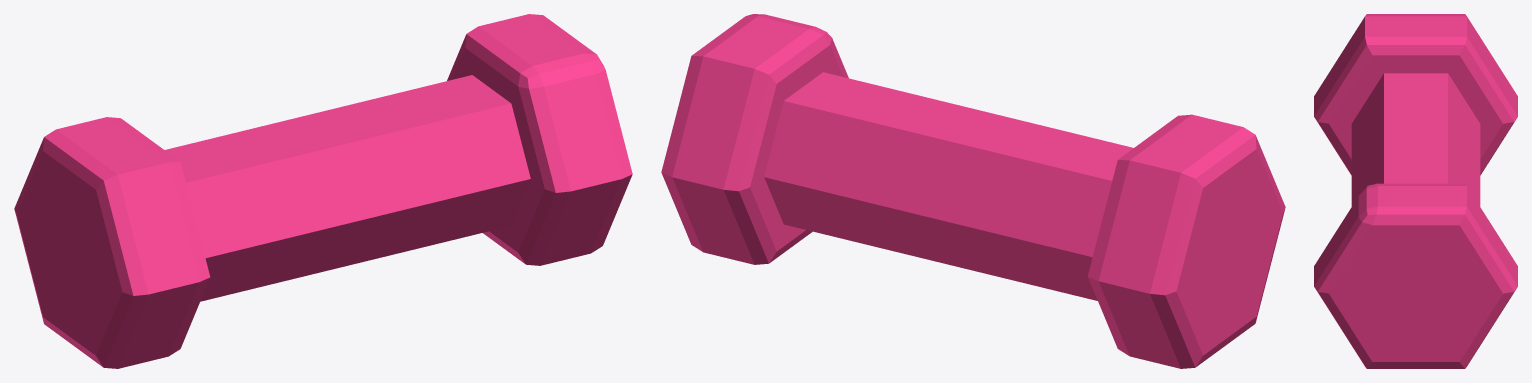
Rendered from pink_dumbbell.fbx.
3 views of the same model, side by side, from view 1: azimuth 30°, elevation 25°; view 2: azimuth 150°, elevation 25°; view 3: azimuth 270°, elevation 25° (orthographic). The views are drawn at different scales.
Visible parts, largest first — view 1: pink_dumbbell; view 2: pink_dumbbell; view 3: pink_dumbbell.
Boxes of the visible parts, bbox=[...] form: pink_dumbbell: bbox=[14, 14, 632, 368]; pink_dumbbell: bbox=[661, 14, 1285, 368]; pink_dumbbell: bbox=[1314, 14, 1517, 368].
Size of the model in its own units: 0.4383 by 0.1602 by 0.185.
Materials: 1 (1 with a texture image).
